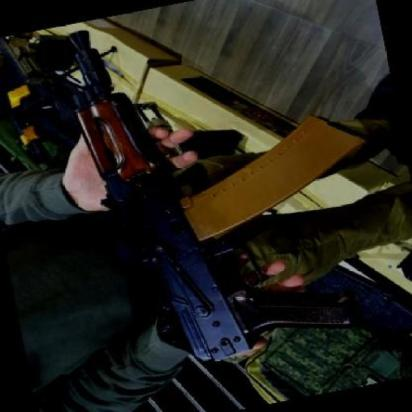Gun: (47, 0, 404, 393)
